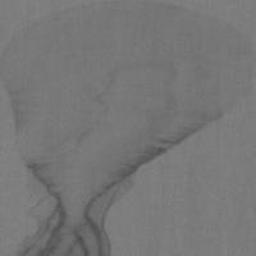Water spot: (0, 1, 256, 256)
